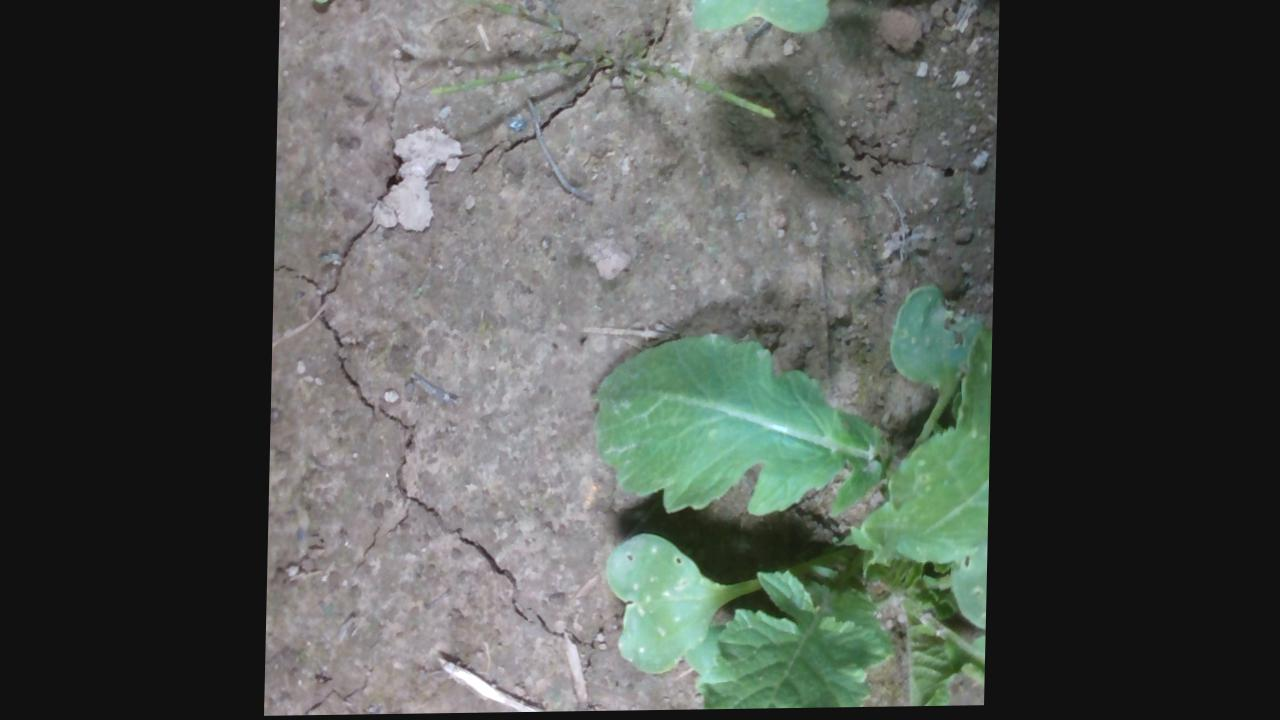weed: (309, 0, 342, 8)
